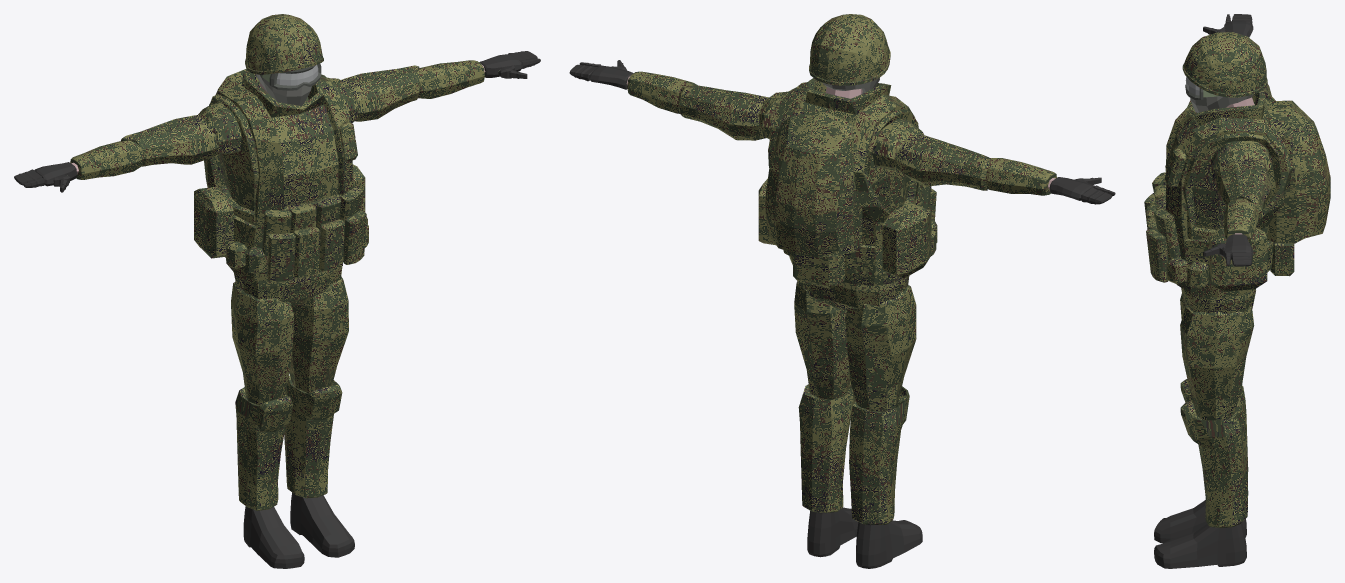
Rendered from soldier.glb.
3 views of the same model, side by side, from view 1: azimuth 30°, elevation 25°; view 2: azimuth 150°, elevation 25°; view 3: azimuth 270°, elevation 25° (orthographic). The views are drawn at different scales.
Visible parts, largest first — view 1: Than_0, Dui_r_65, Dau_73, Cangchan_r_66, Cangchan_l_60, Dui_l_59, Baptay_r_30, Baptay_l_2, Giay_l_61, Giay_r_67, Hong_58, Cangtay_r_31 (+2 smaller); view 2: Than_0, Dui_r_65, Cangchan_r_66, Cangchan_l_60, Dau_73, Dui_l_59, Baptay_r_30, Baptay_l_2, Giay_r_67, Cangtay_r_31, Hong_58, Giay_l_61 (+4 smaller); view 3: Than_0, Dui_l_59, Cangchan_l_60, Dau_73, Giay_l_61, Baptay_l_2, Giay_r_67, Vai_l_1, Hong_58, Cangtay_l_3, Bantay_l_5, Cangchan_r_66 (+1 smaller).
Part boxes in pixels (bbox=[...]): Than_0: bbox=[194, 69, 368, 281]; Dui_r_65: bbox=[231, 281, 293, 405]; Dau_73: bbox=[245, 14, 323, 105]; Cangchan_r_66: bbox=[235, 387, 292, 510]; Cangchan_l_60: bbox=[284, 376, 342, 498]; Dui_l_59: bbox=[289, 276, 348, 393]; Baptay_r_30: bbox=[121, 114, 219, 166]; Baptay_l_2: bbox=[341, 65, 419, 121]; Giay_l_61: bbox=[290, 492, 354, 557]; Giay_r_67: bbox=[243, 506, 304, 568]; Hong_58: bbox=[233, 266, 342, 305]; Cangtay_r_31: bbox=[70, 140, 143, 179]; Than_0: bbox=[758, 78, 937, 288]; Dui_r_65: bbox=[845, 285, 916, 411]; Cangchan_r_66: bbox=[849, 386, 909, 524]; Cangchan_l_60: bbox=[798, 381, 855, 512]; Dau_73: bbox=[809, 14, 890, 93]; Dui_l_59: bbox=[794, 281, 850, 399]; Baptay_r_30: bbox=[895, 134, 989, 190]; Baptay_l_2: bbox=[678, 85, 768, 140]; Giay_r_67: bbox=[856, 520, 922, 568]; Cangtay_r_31: bbox=[985, 158, 1056, 195]; Hong_58: bbox=[798, 276, 909, 310]; Giay_l_61: bbox=[807, 507, 858, 557]; Than_0: bbox=[1144, 88, 1330, 297]; Dui_l_59: bbox=[1180, 306, 1254, 420]; Cangchan_l_60: bbox=[1180, 400, 1248, 527]; Dau_73: bbox=[1182, 32, 1267, 112]; Giay_l_61: bbox=[1154, 522, 1246, 568]; Baptay_l_2: bbox=[1216, 157, 1271, 220]; Giay_r_67: bbox=[1154, 500, 1246, 543]; Vai_l_1: bbox=[1211, 140, 1272, 180]; Hong_58: bbox=[1181, 288, 1255, 313]; Cangtay_l_3: bbox=[1224, 198, 1258, 242]; Bantay_l_5: bbox=[1224, 234, 1253, 259]; Cangchan_r_66: bbox=[1180, 379, 1248, 479].
Size of the model in its own units: 0.1175 by 0.1122 by 0.0369.
Materials: 1 (1 with a texture image).
